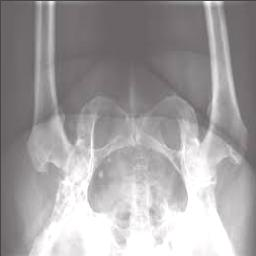cancer: (48, 113, 92, 220)
